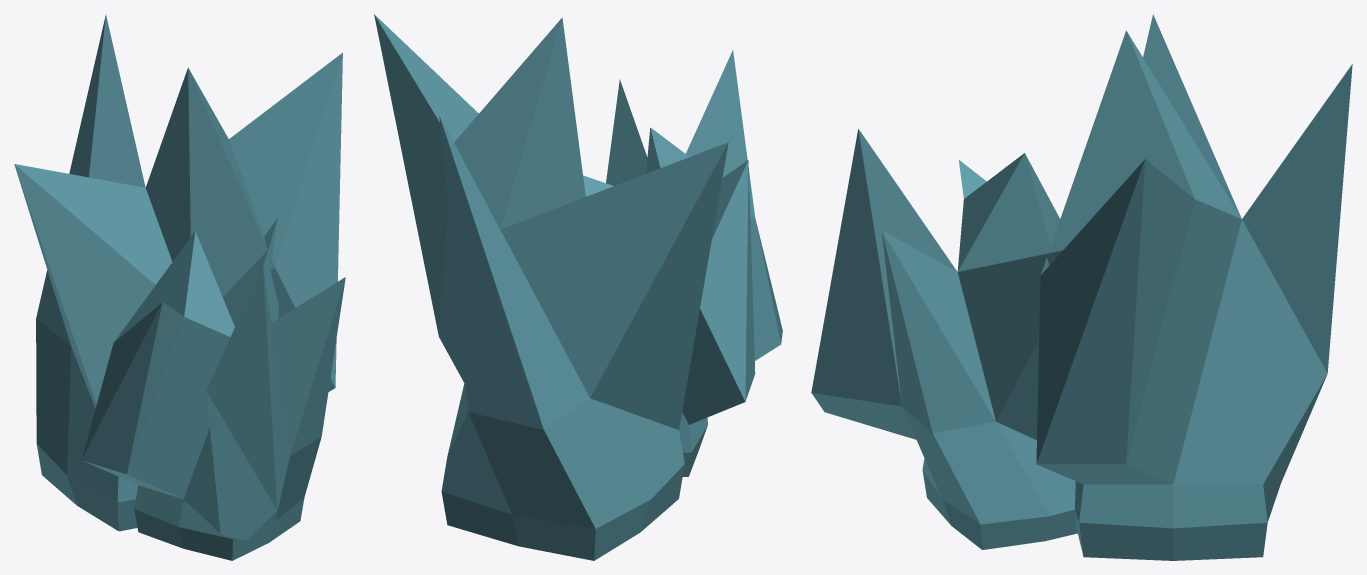
File: Iceage.fbx
The picture shows the model from 3 angles, left to right: view 1: azimuth 30°, elevation 25°; view 2: azimuth 150°, elevation 25°; view 3: azimuth 270°, elevation 25°; orthographic projection. The views are drawn at different scales.
Visible parts, largest first — view 1: Cube, Cube.001; view 2: Cube, Cube.001; view 3: Cube, Cube.001.
Part boxes in pixels (box(x1,y1,x2,y2)): Cube: box(14, 14, 342, 531); Cube.001: box(81, 217, 345, 560); Cube: box(374, 14, 728, 560); Cube.001: box(583, 50, 782, 476); Cube: box(1036, 14, 1352, 560); Cube.001: box(811, 129, 1077, 549).
Bounding box in the file's own units: 2377 × 3042 × 2936.
